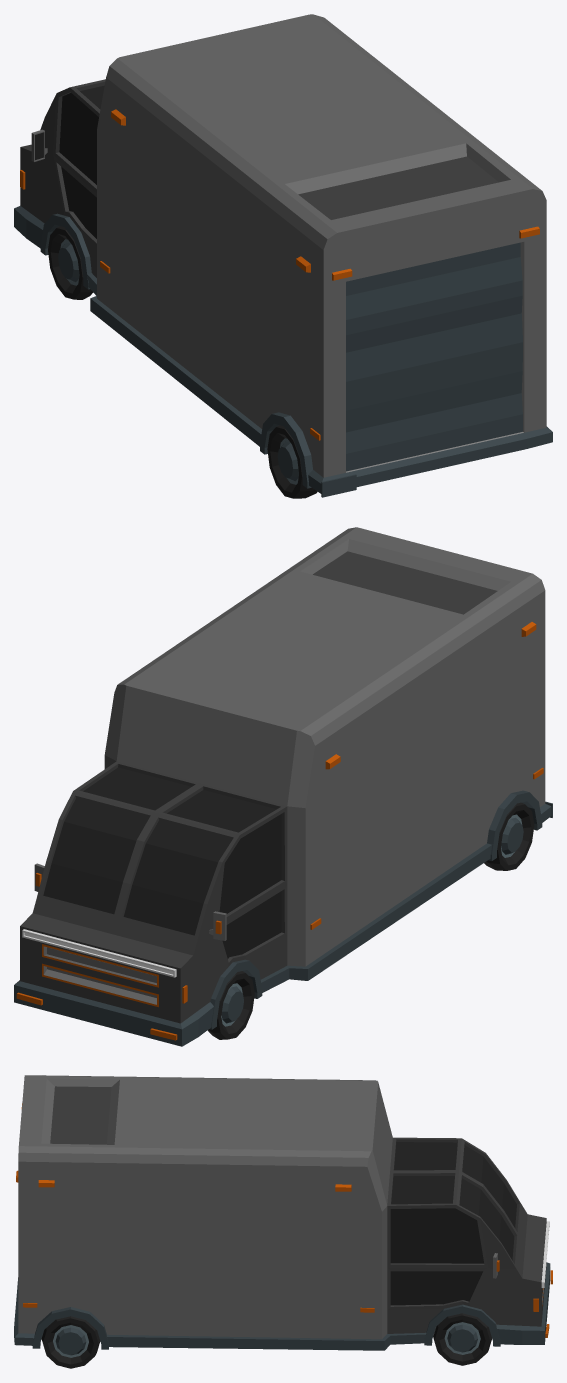
File: car1.glb
The picture shows the model from 3 angles, top to bottom: view 1: azimuth 30°, elevation 25°; view 2: azimuth 150°, elevation 25°; view 3: azimuth 270°, elevation 25°; orthographic projection. The views are drawn at different scales.
Visible parts, largest first — view 1: EL-Truck; view 2: EL-Truck; view 3: EL-Truck.
Part boxes in pixels (left/top/right/bottom): EL-Truck: left=14, top=14, right=552, bottom=498; EL-Truck: left=14, top=527, right=552, bottom=1046; EL-Truck: left=14, top=1075, right=552, bottom=1368.
Bounding box in the file's own units: 1.73 × 1.94 × 4.39.
Materials: 1 (1 with a texture image).
